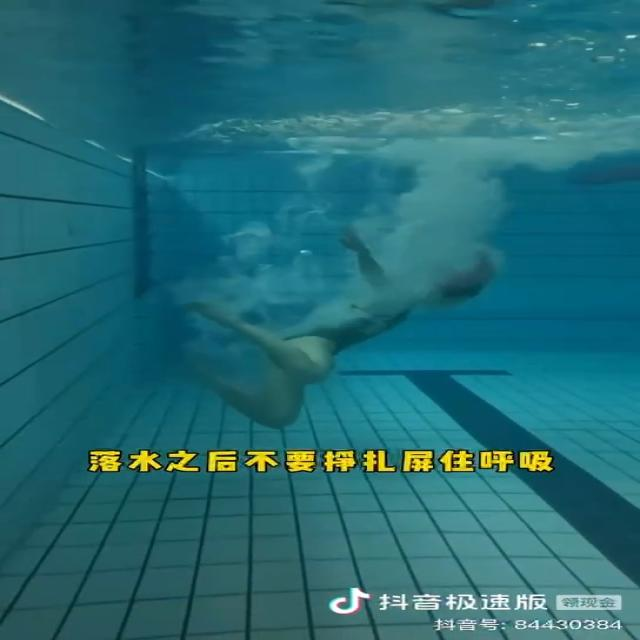Drowning: (170, 232, 499, 432)
